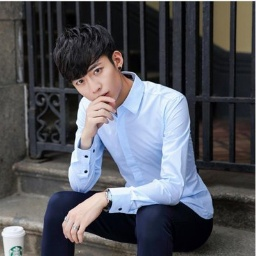face: (52, 21, 125, 110)
